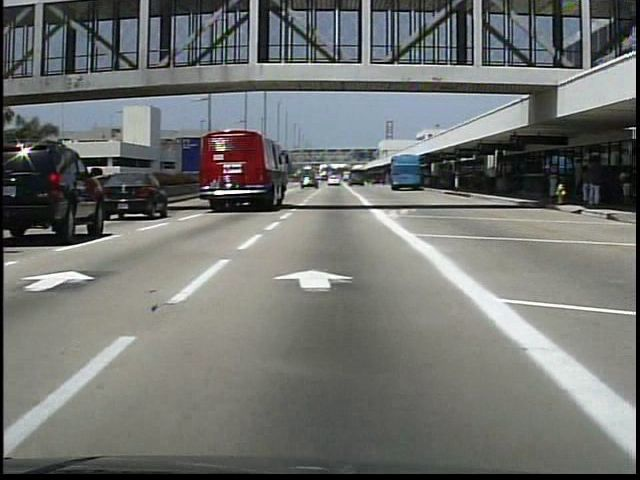person: (614, 167, 633, 208), (487, 164, 499, 192)
